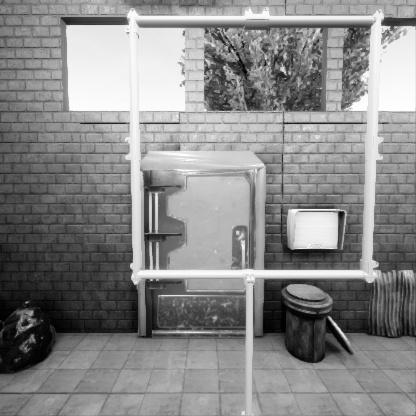gate: (122, 144, 404, 416)
